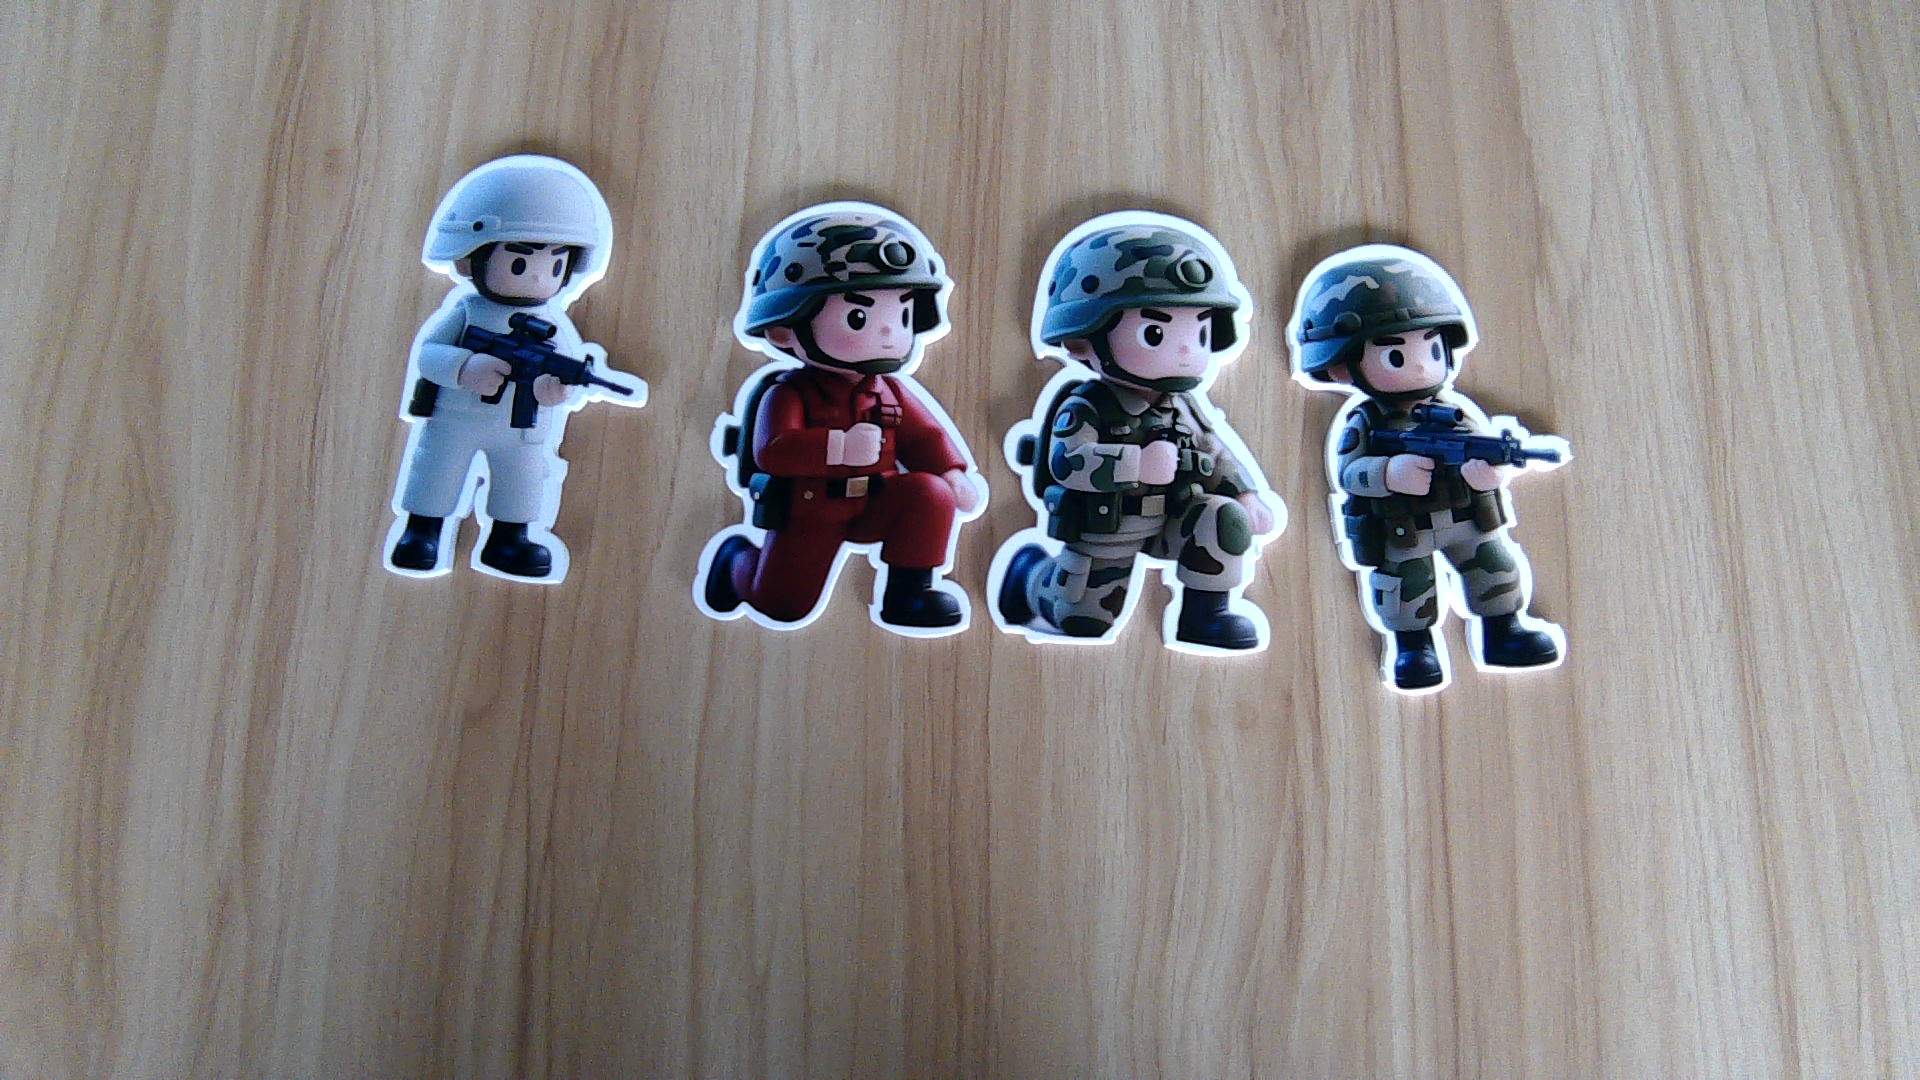人质: (377, 303, 650, 591)
友军: (986, 396, 1288, 663), (1319, 407, 1582, 694)
敌人1: (683, 367, 980, 633)
